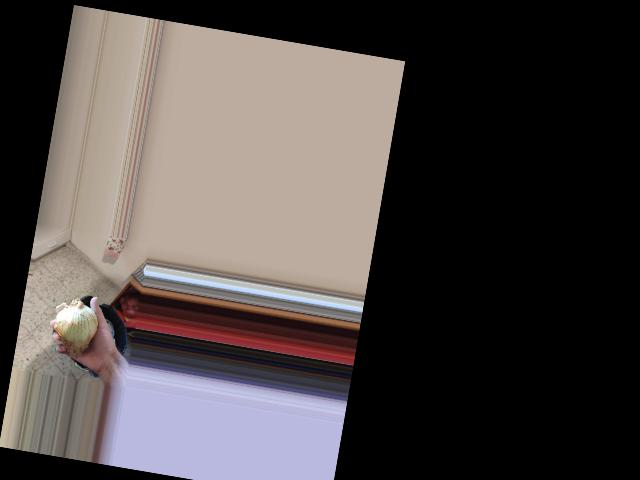onion: (51, 298, 102, 358)
